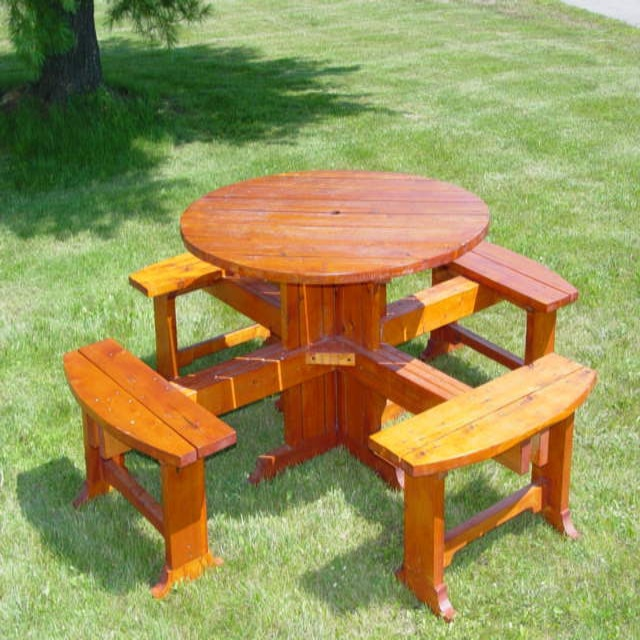obstacle: (40, 163, 599, 609)
